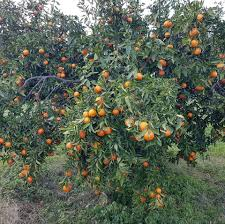orange: (142, 130, 155, 143), (138, 120, 149, 130)
